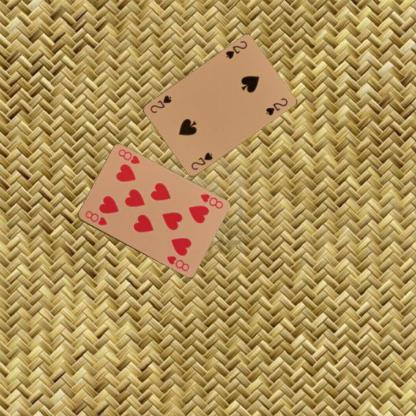2s: (188, 150, 214, 172), (223, 38, 248, 60)
8h: (82, 208, 108, 227), (197, 192, 224, 210)
